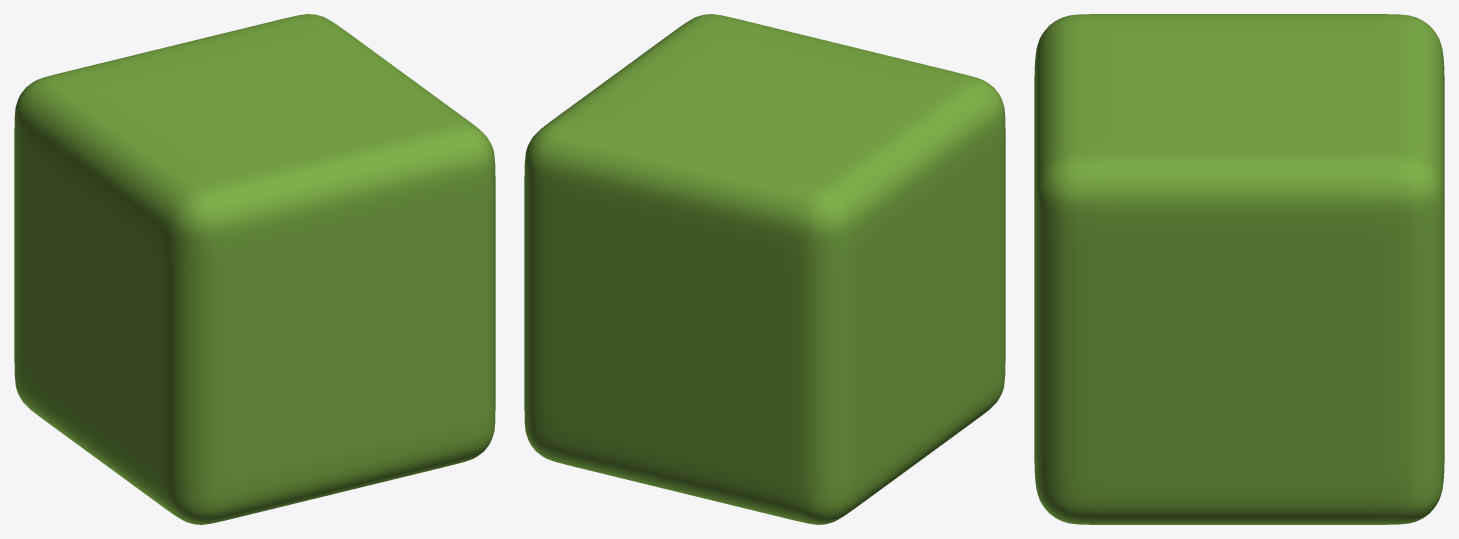
File: SM_TowerBush_01.fbx
3 views of the same model, side by side, from view 1: azimuth 30°, elevation 25°; view 2: azimuth 150°, elevation 25°; view 3: azimuth 270°, elevation 25° (orthographic). The views are drawn at different scales.
Parts seen in each view (by area): view 1: pCube9; view 2: pCube9; view 3: pCube9.
Part boxes in pixels (x1,y1,x2,y2): pCube9: (14, 14, 495, 524); pCube9: (524, 14, 1005, 524); pCube9: (1034, 14, 1444, 524).
Size of the model in its own units: 101 by 101 by 99.95.
